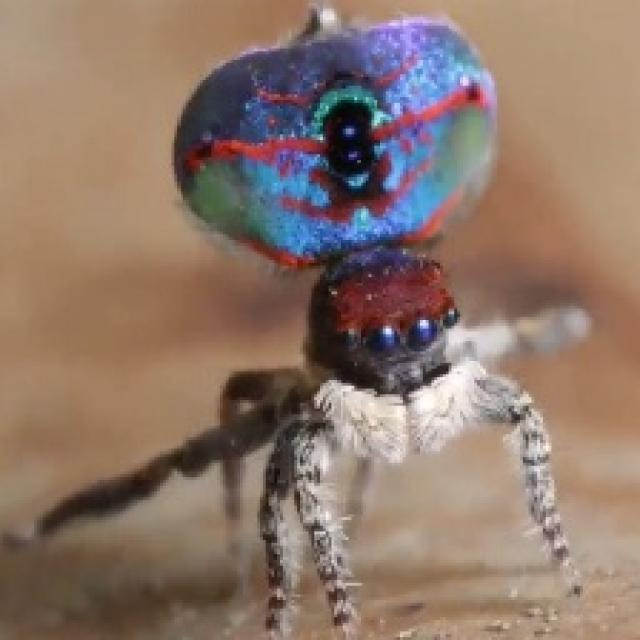Non venomous spider: (149, 33, 526, 461)
